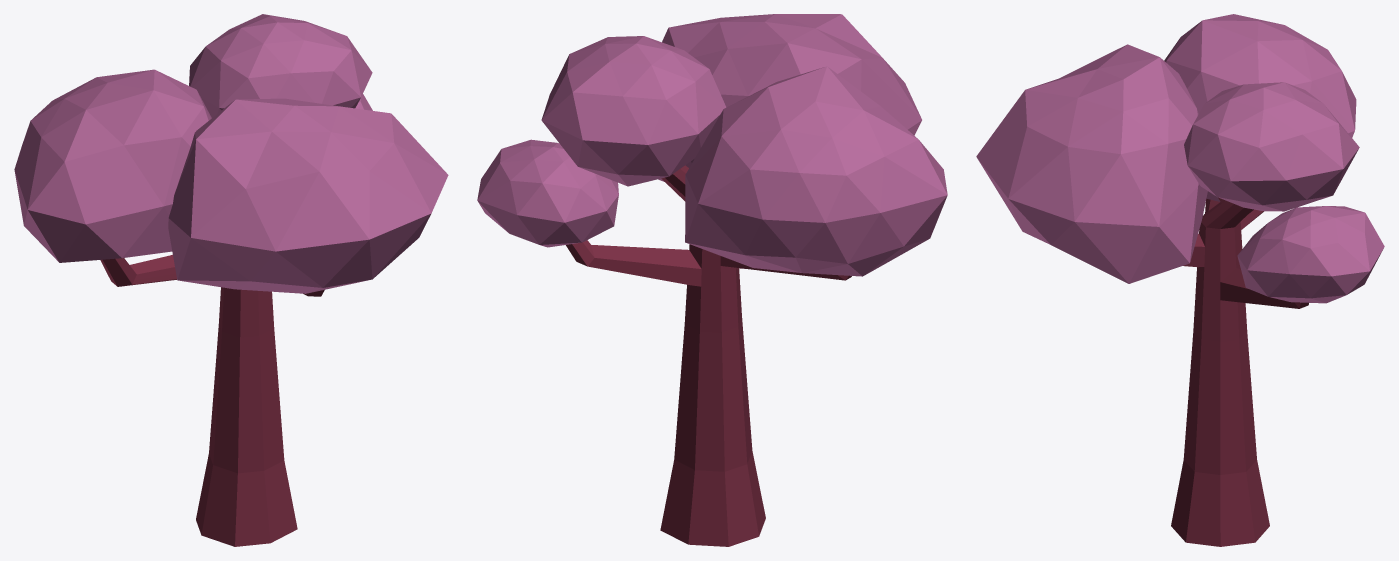
File: Mo_ForestTree01.fbx
The picture shows the model from 3 angles, left to right: view 1: azimuth 30°, elevation 25°; view 2: azimuth 150°, elevation 25°; view 3: azimuth 270°, elevation 25°; orthographic projection. The views are drawn at different scales.
Parts seen in each view (by area): view 1: Icosphere; view 2: Icosphere; view 3: Icosphere.
Part boxes in pixels (bbox=[...]): Icosphere: bbox=[14, 14, 448, 546]; Icosphere: bbox=[477, 14, 947, 546]; Icosphere: bbox=[976, 14, 1384, 546].
Bounding box in the file's own units: 395 × 454 × 362.
